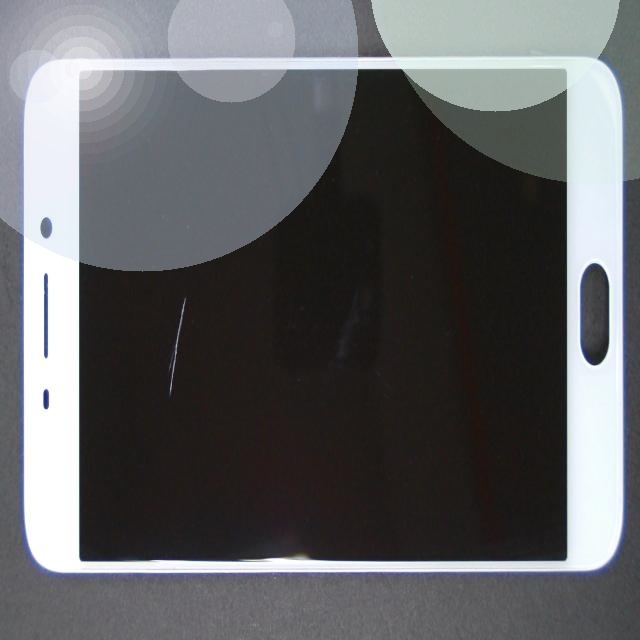scratch: (102, 78, 258, 463)
